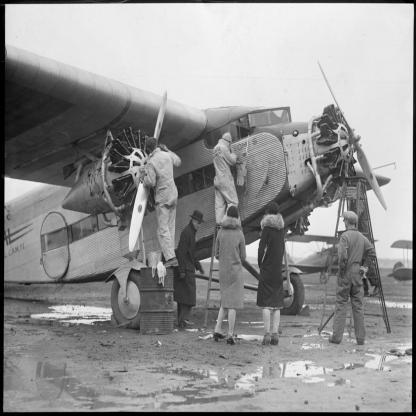CIV_Plane: (4, 35, 400, 354)
